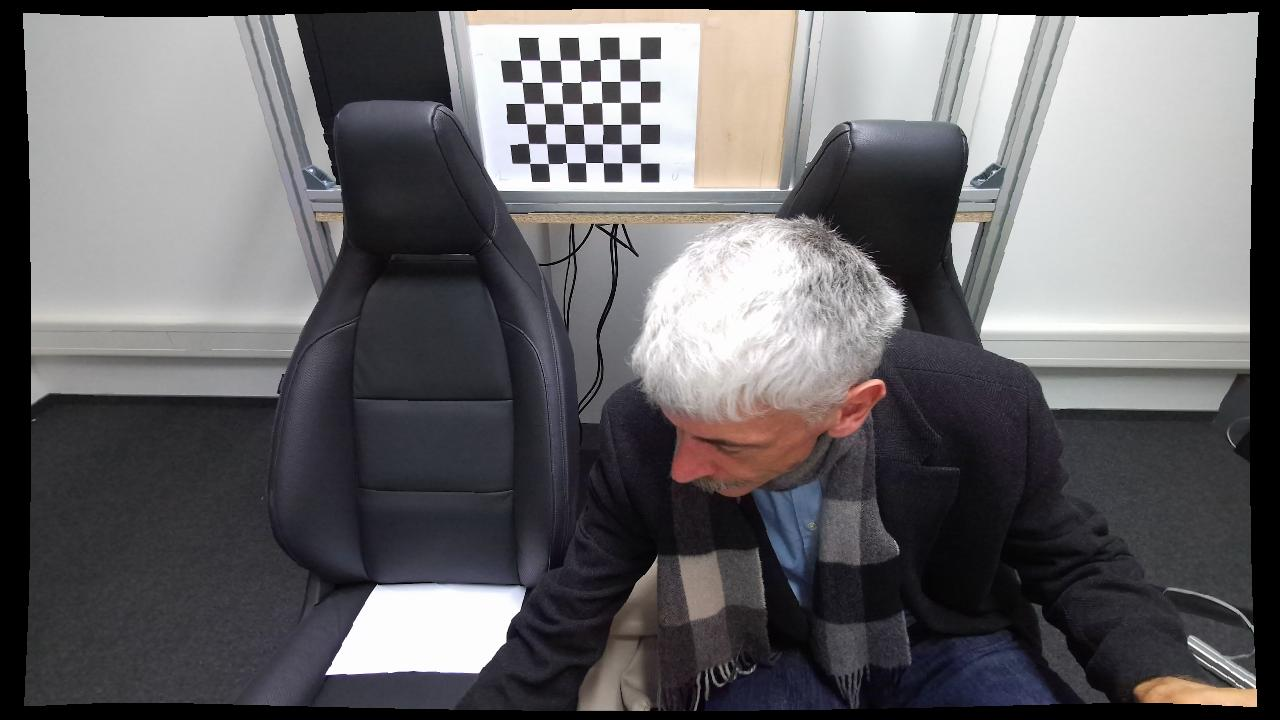Distracted: (451, 213, 1252, 707)
